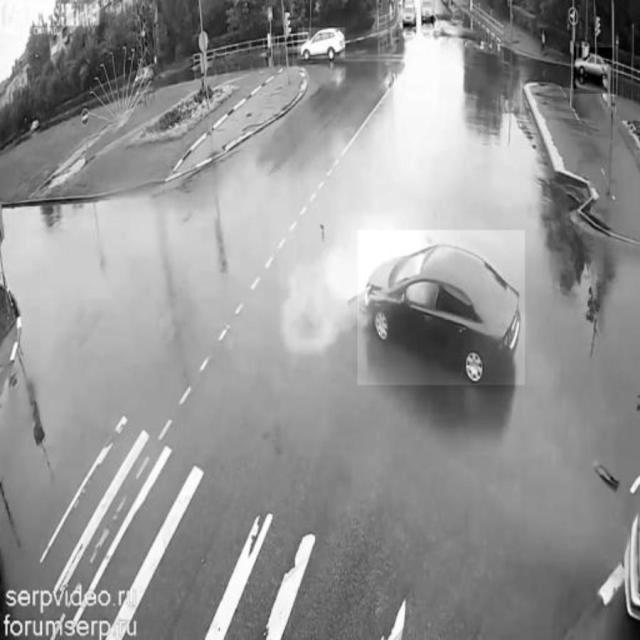vehicle: (358, 229, 525, 385), (574, 48, 614, 94), (298, 28, 345, 58), (420, 0, 435, 30), (401, 8, 418, 33)
